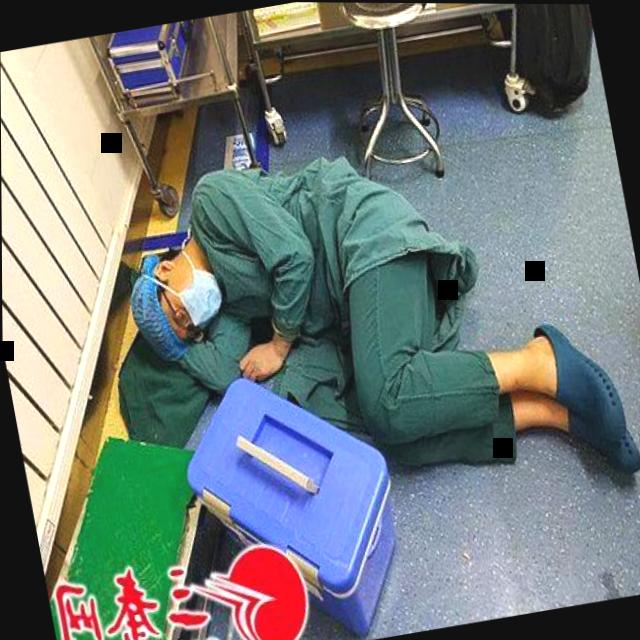Fall-Detected: (79, 83, 640, 590)
